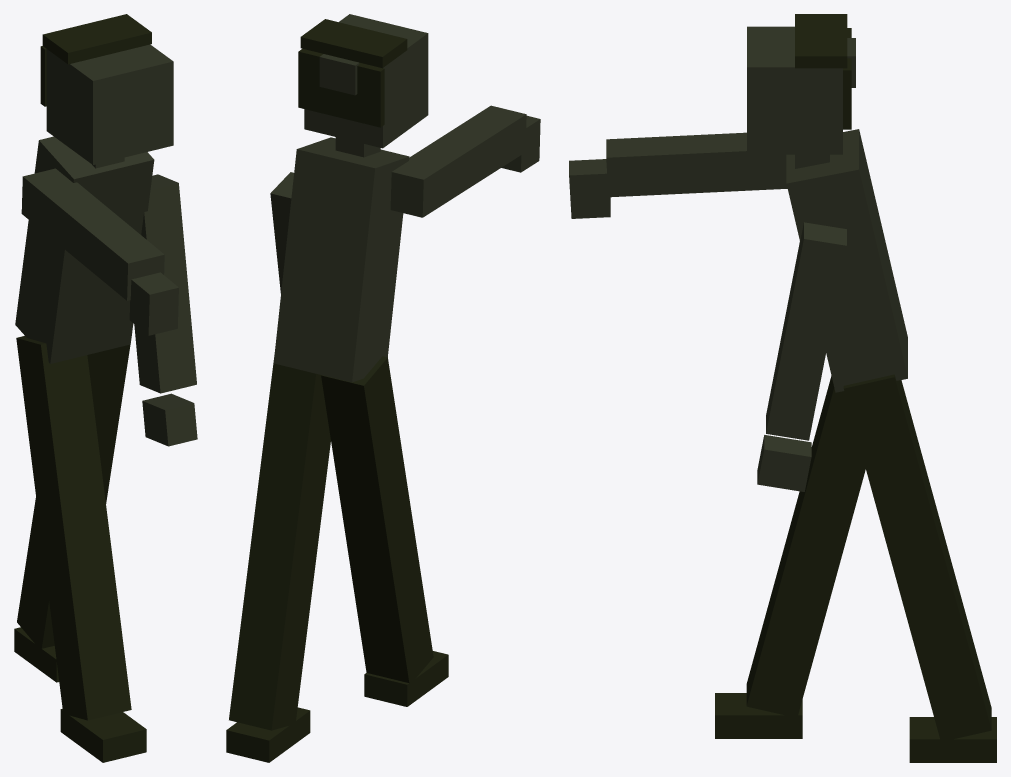
File: SM_ZombiFino_v5_BrazoCaido_LOD1.fbx
3 renders of one model, left to right at view 1: azimuth 30°, elevation 25°; view 2: azimuth 150°, elevation 25°; view 3: azimuth 270°, elevation 25°, orthographic. The views are drawn at different scales.
Visible parts, largest first — view 1: SM_zombi_fino_v5_LOD1; view 2: SM_zombi_fino_v5_LOD1; view 3: SM_zombi_fino_v5_LOD1.
Part boxes in pixels (x1,y1,x2,y2): SM_zombi_fino_v5_LOD1: (14, 14, 197, 762); SM_zombi_fino_v5_LOD1: (226, 14, 540, 762); SM_zombi_fino_v5_LOD1: (569, 14, 996, 762).
Bounding box in the file's own units: 0.4 × 1.78 × 0.9796.
